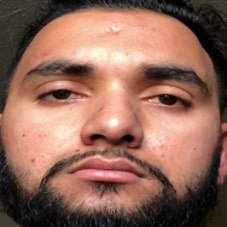drowsy: (24, 54, 212, 200)
